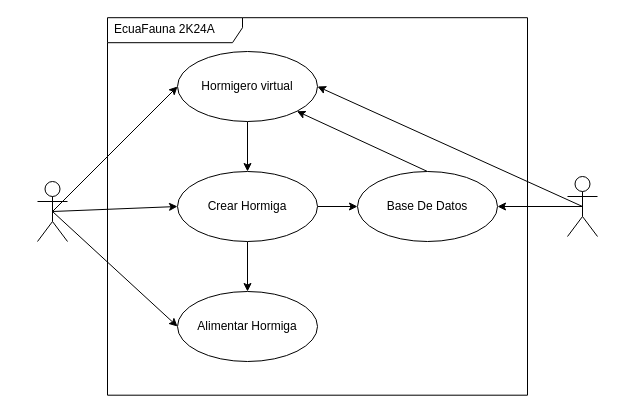
This 621x413 diagram has some shape labels left out. Here are the shapes that lost their labels. From the top down, the centre of each, then its label:
At point (52, 211): "Entomólogos".
At point (582, 206): "Sistema".
